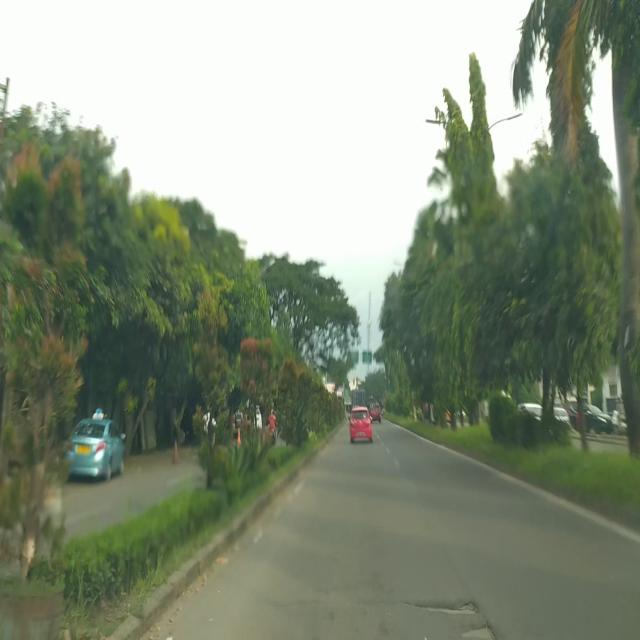Sewer Cover: (401, 593, 481, 616)
